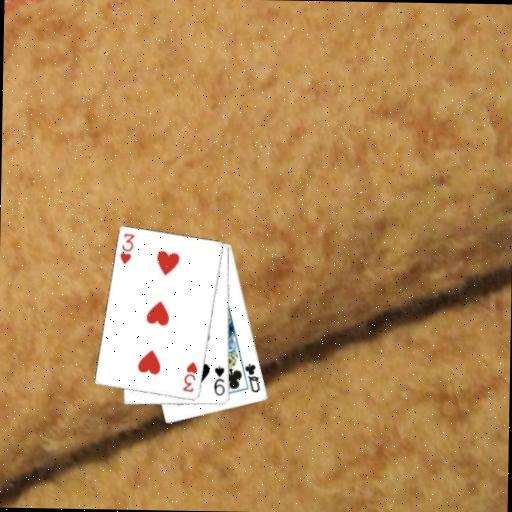3H: (117, 230, 136, 266), (180, 359, 199, 394)
9S: (211, 363, 227, 398)
QC: (242, 360, 263, 394)
